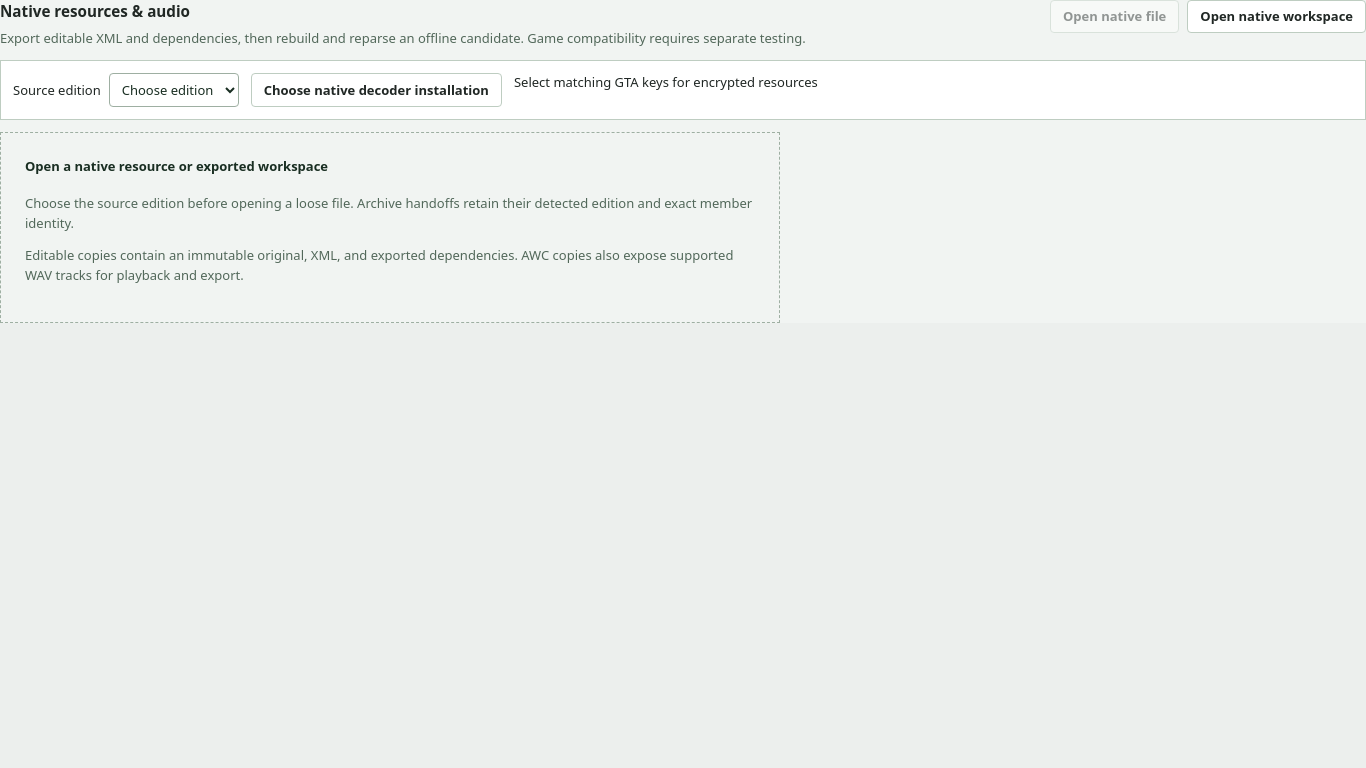
Test: renders the backend collision fixture through native inspection and refuses browser-only authoring
The image size is (1366, 768).
Click the button "Open native workspace". click: (1277, 16)
box: [1187, 0, 1365, 33]
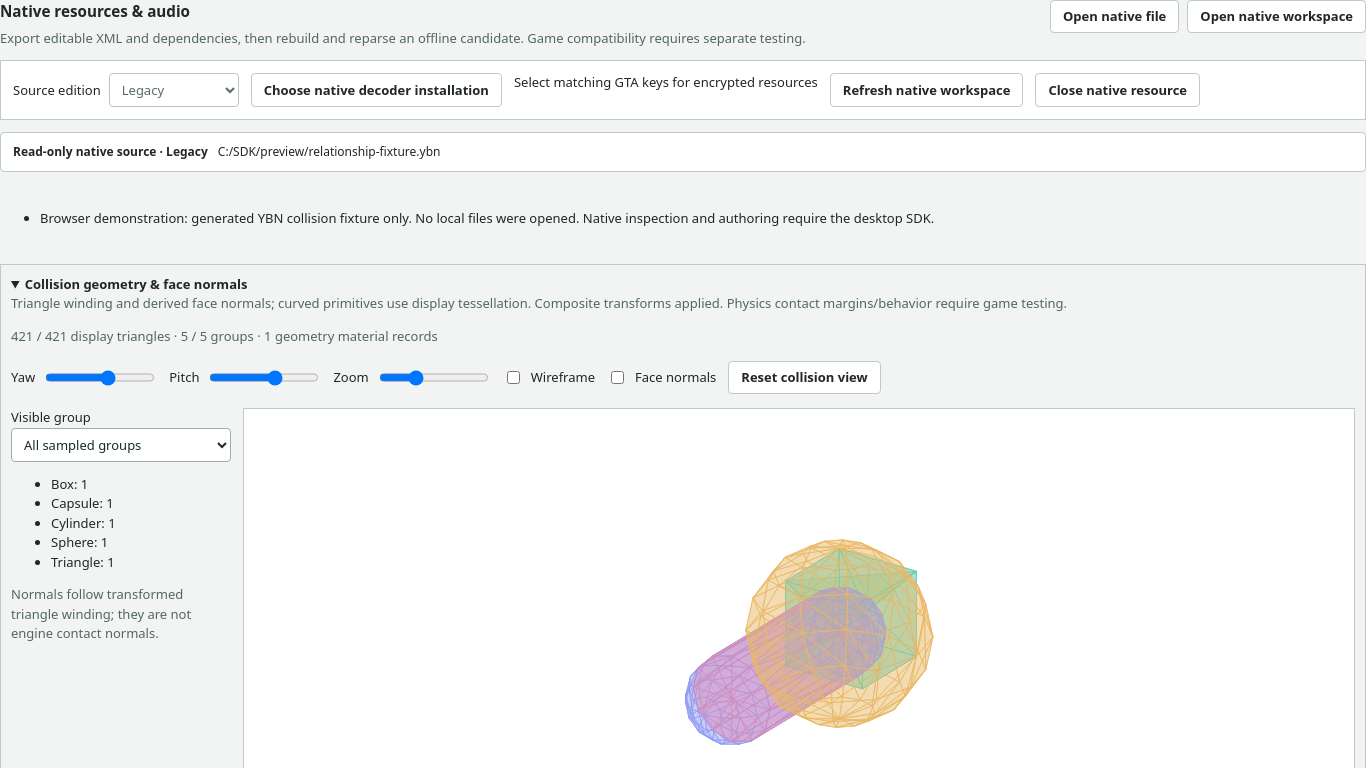
Check: the list item "Browser demonstration: generated YBN collision fixture" is shown, box [40, 209, 934, 227]
Select "0: Box surface · material 0" in the dropdown named "Collision group". click: (121, 445)
box: [11, 428, 231, 462]
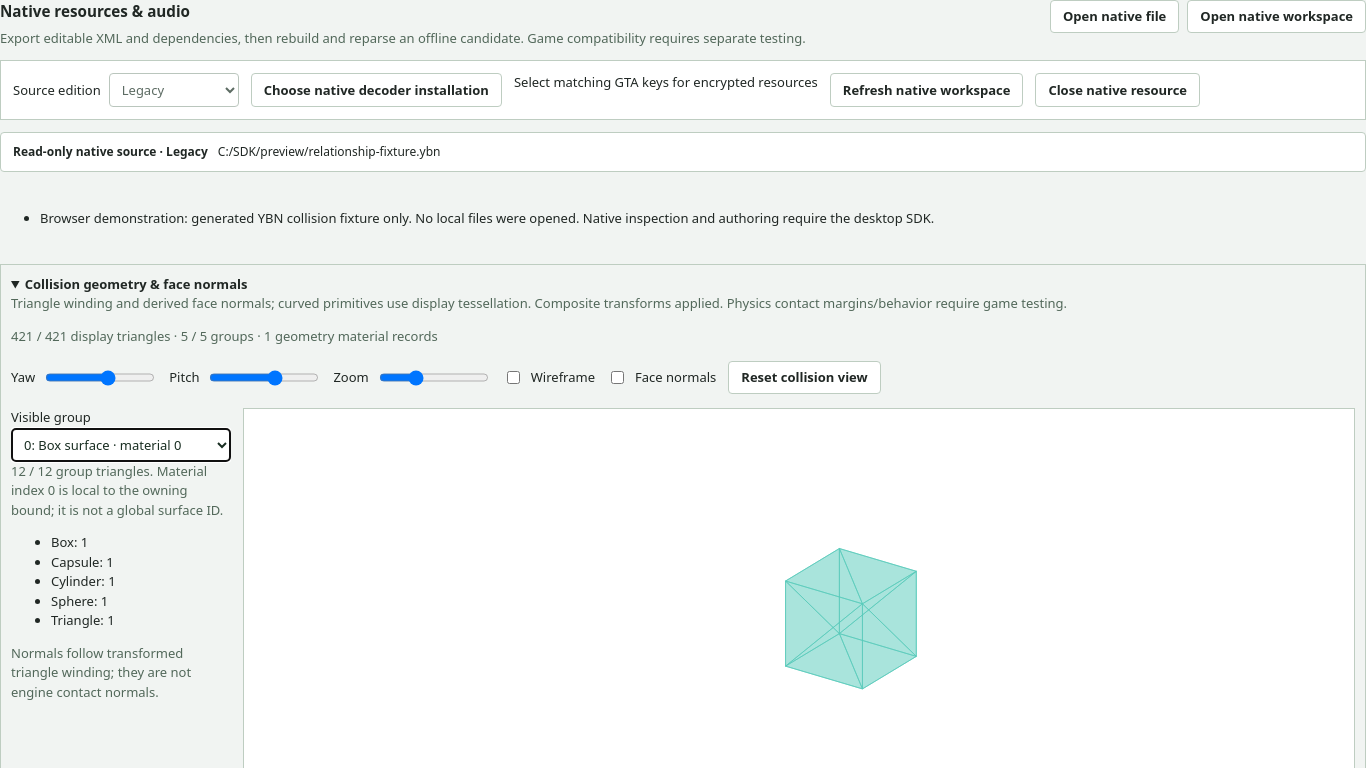
Click the checkbox labelled "Face normals". click: (618, 378)
box: [611, 371, 624, 384]
(page scrolled)
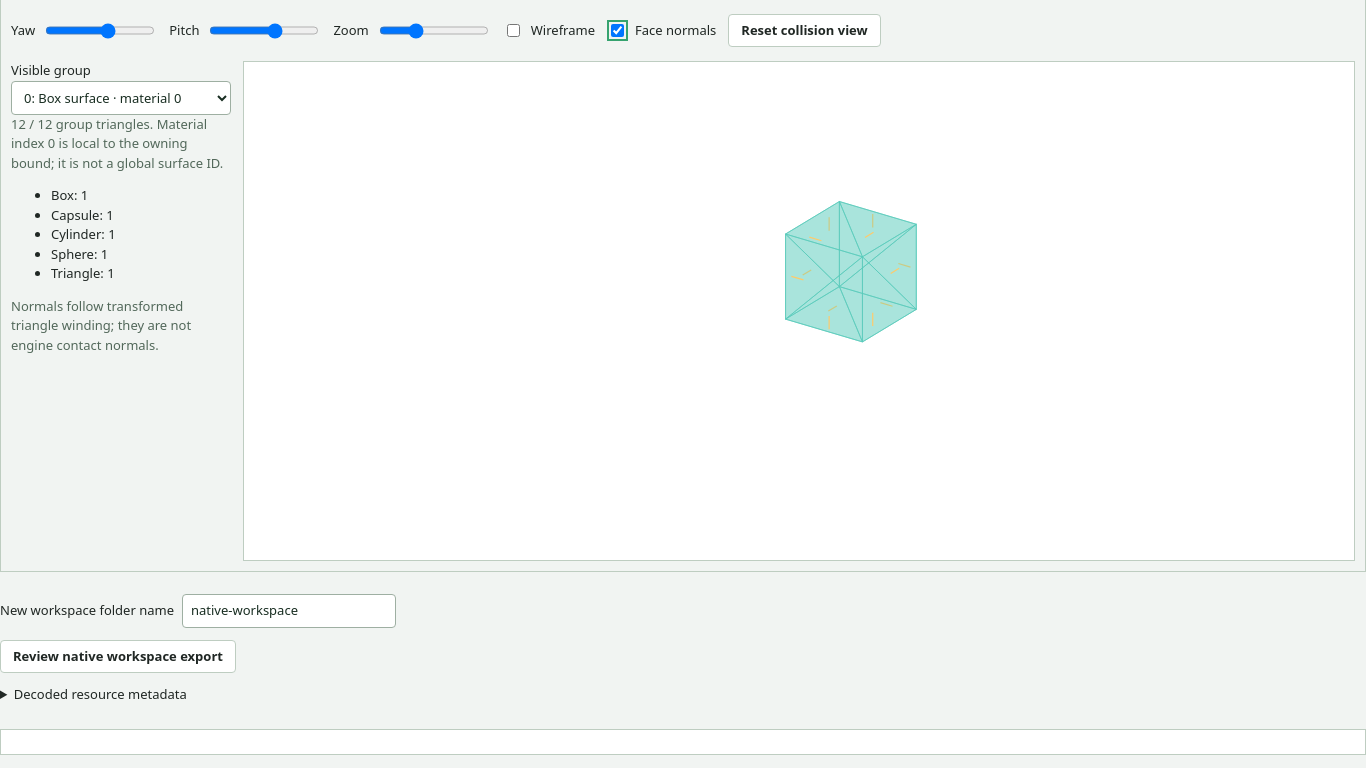
Click the button "Review native workspace export". click: (118, 656)
box: [0, 640, 236, 673]
(page scrolled)
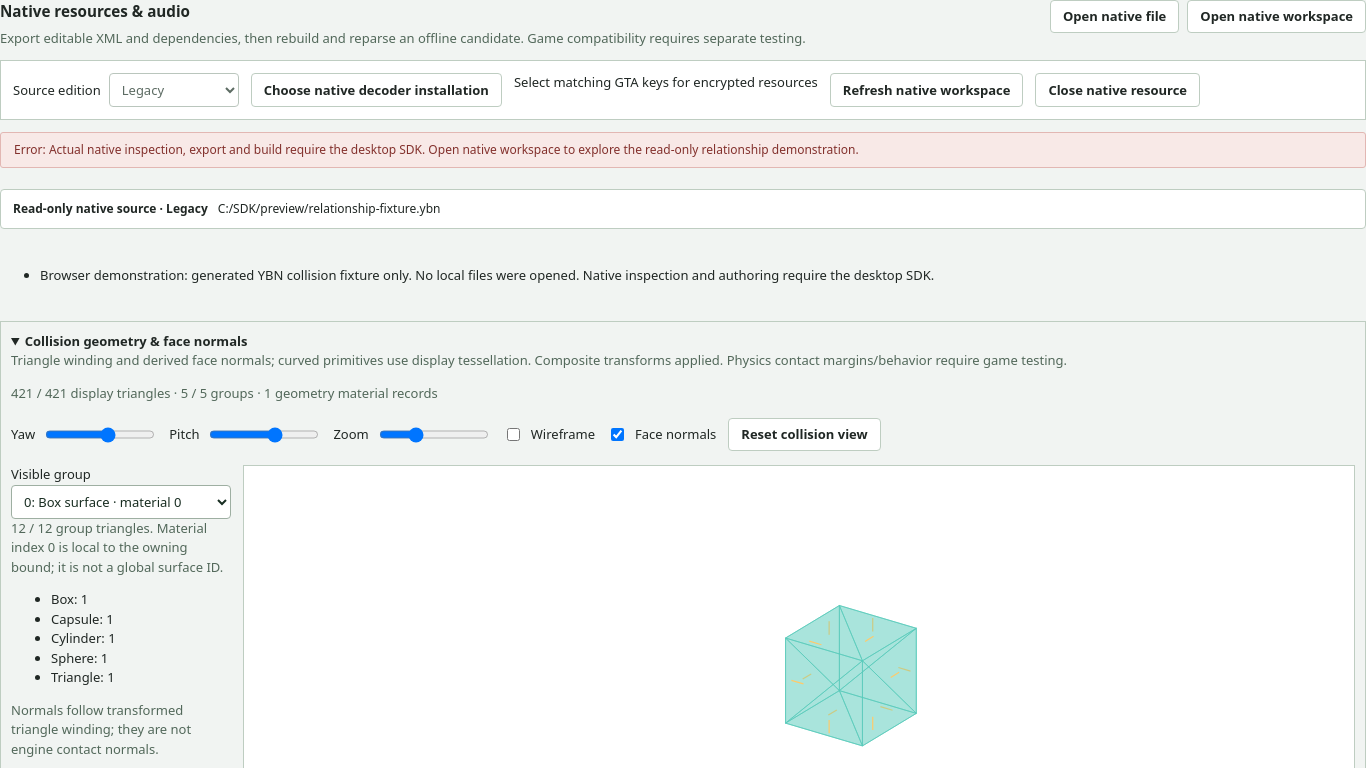
Check: the text "Actual native inspection, export and build require the desktop SDK" is shown, box [14, 141, 859, 158]
